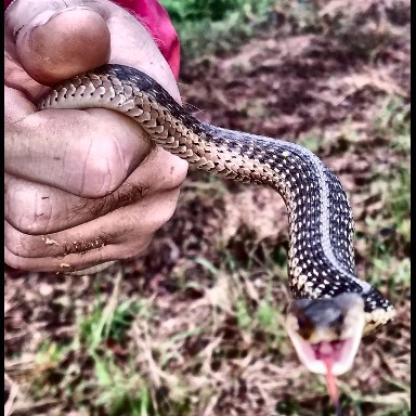Snake: (47, 66, 393, 387)
